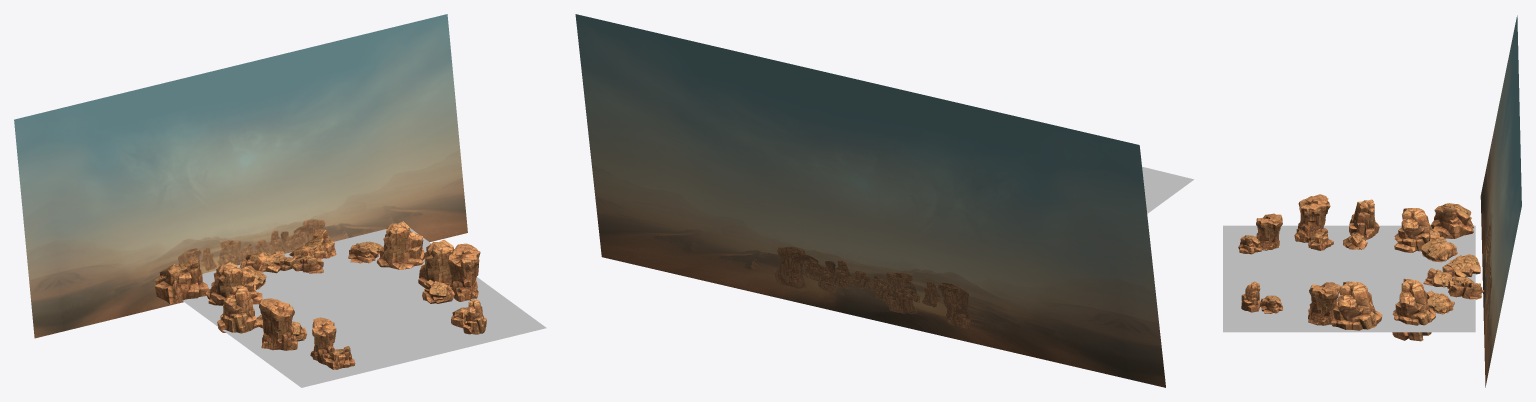
File: Env_Savan.fbx
3 renders of one model, left to right at view 1: azimuth 30°, elevation 25°; view 2: azimuth 150°, elevation 25°; view 3: azimuth 270°, elevation 25°, orthographic. The views are drawn at different scales.
Visible parts, largest first — view 1: Sky_geo, Land_geo, rock02_geo, rock01_geo, rock05_geo; view 2: Sky_geo, Land_geo; view 3: Land_geo, Sky_geo, rock02_geo, rock01_geo, rock05_geo, rock03_geo.
Boxes of the visible parts, left/top/right/bottom form: Sky_geo: left=14, top=14, right=467, bottom=338; Land_geo: left=182, top=228, right=546, bottom=387; rock02_geo: left=206, top=221, right=486, bottom=334; rock01_geo: left=155, top=229, right=467, bottom=369; rock05_geo: left=259, top=243, right=480, bottom=364; Sky_geo: left=575, top=14, right=1165, bottom=387; Land_geo: left=1142, top=166, right=1193, bottom=213; Land_geo: left=1223, top=225, right=1475, bottom=332; Sky_geo: left=1480, top=15, right=1521, bottom=387; rock02_geo: left=1241, top=199, right=1438, bottom=341; rock01_geo: left=1238, top=203, right=1483, bottom=314; rock05_geo: left=1256, top=194, right=1340, bottom=325; rock03_geo: left=1343, top=233, right=1367, bottom=249.
Size of the model in its own units: 194 by 87.81 by 129.
